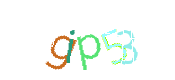3: (75, 0, 155, 80)
5: (52, 0, 132, 80)
G: (19, 0, 99, 80)
I: (42, 0, 122, 80)
P: (47, 0, 127, 80)
